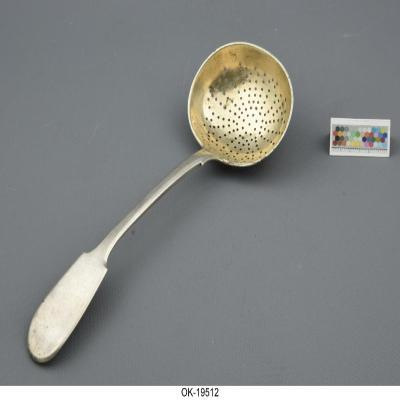dpi: (28, 42, 294, 366)
